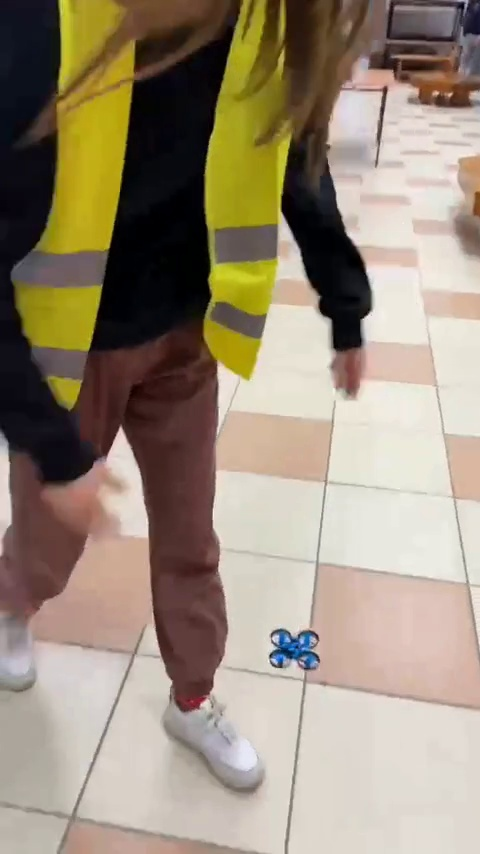drone: (273, 635, 322, 680)
vest: (0, 2, 305, 781)
